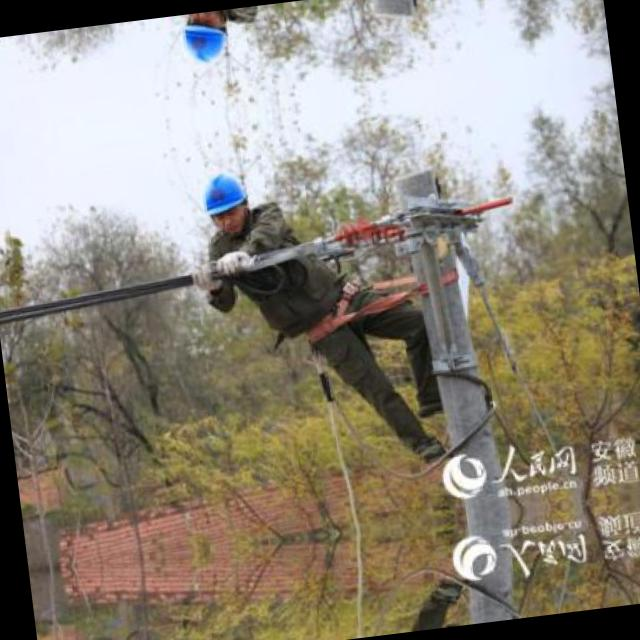helmet: (194, 164, 256, 241), (176, 9, 237, 72)
